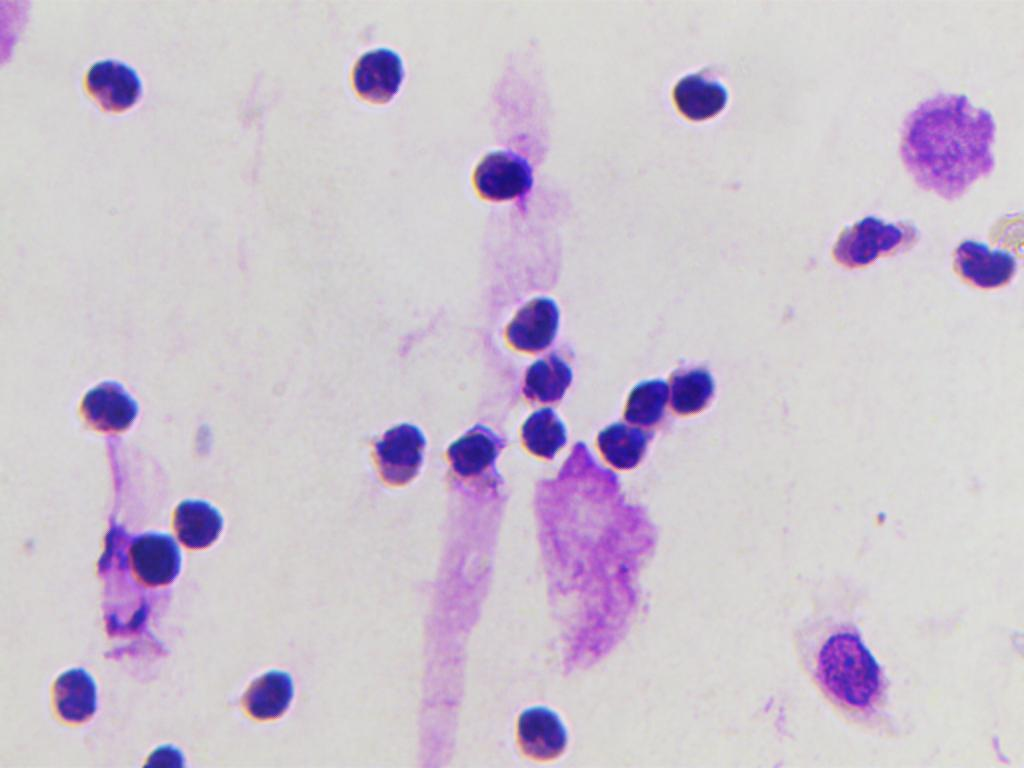epithelial: (783, 604, 924, 736), (889, 86, 1011, 207)
neutrophil: (63, 38, 166, 148), (53, 362, 170, 458), (659, 52, 746, 146), (359, 398, 436, 504), (817, 210, 920, 278), (345, 26, 420, 116), (115, 520, 198, 596), (463, 136, 542, 214), (489, 288, 567, 362), (45, 638, 106, 730), (489, 290, 572, 356), (441, 416, 504, 496), (513, 354, 592, 416), (219, 666, 298, 728), (599, 364, 680, 424), (511, 696, 578, 768), (49, 662, 112, 736), (167, 490, 238, 552), (953, 234, 1018, 298), (517, 398, 576, 468), (587, 422, 670, 470), (671, 348, 720, 424)
